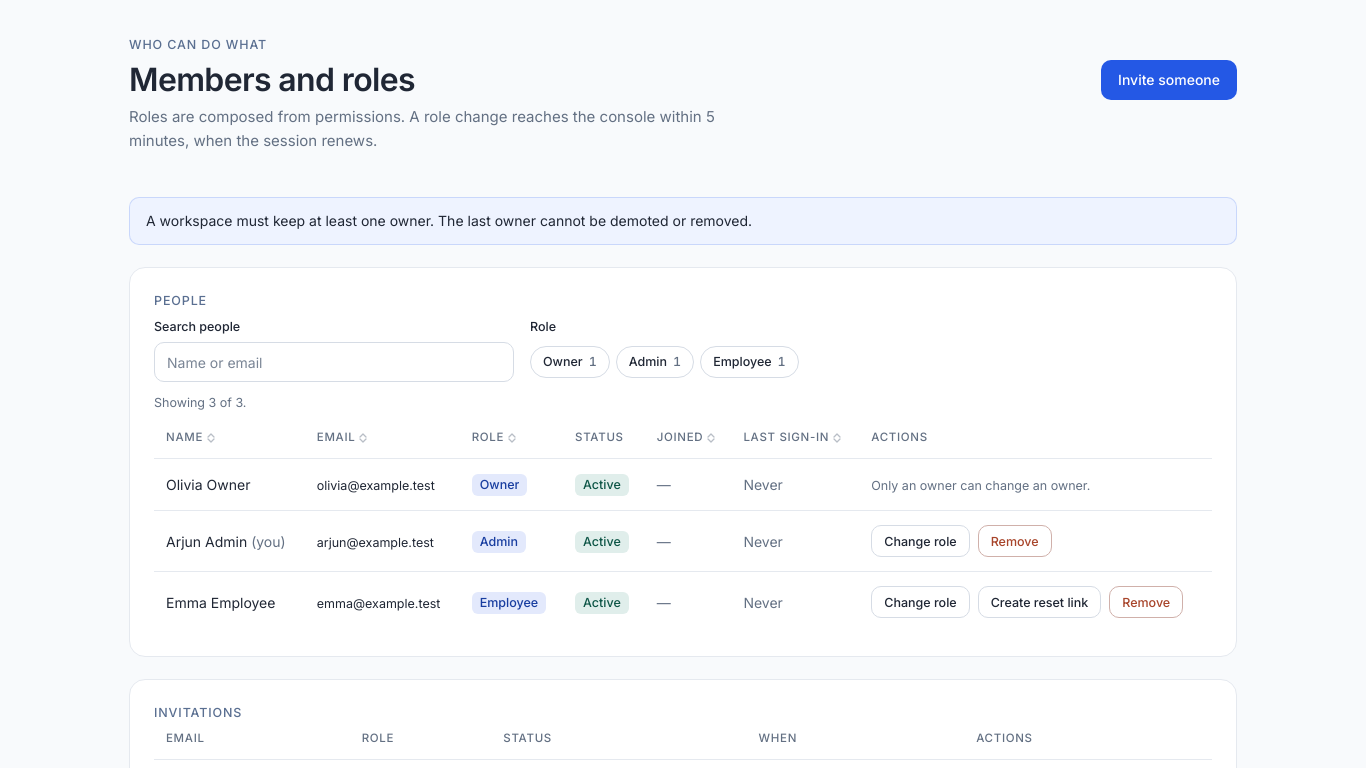
Members as an administrator › creates a password reset link with its 30-minute expiry, but not for the viewer themselves
Expected: the text "Olivia Owner" is shown, [166,476,250,493]
Click the button with aria-label "Create a password reset link for Emma Employee". click: {"x": 1039, "y": 602}
box: [978,586,1101,618]
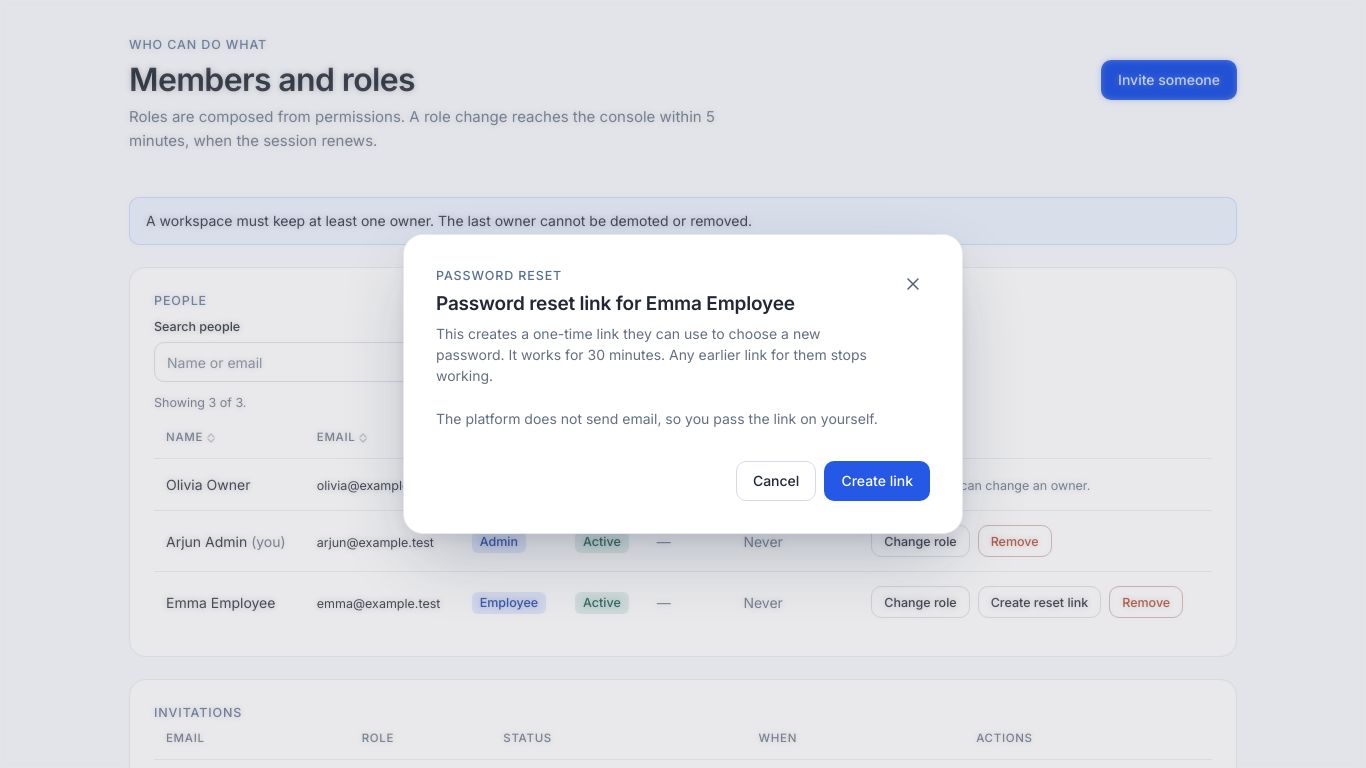
Click the button "Create link". click: {"x": 877, "y": 481}
box: [824,461,930,501]
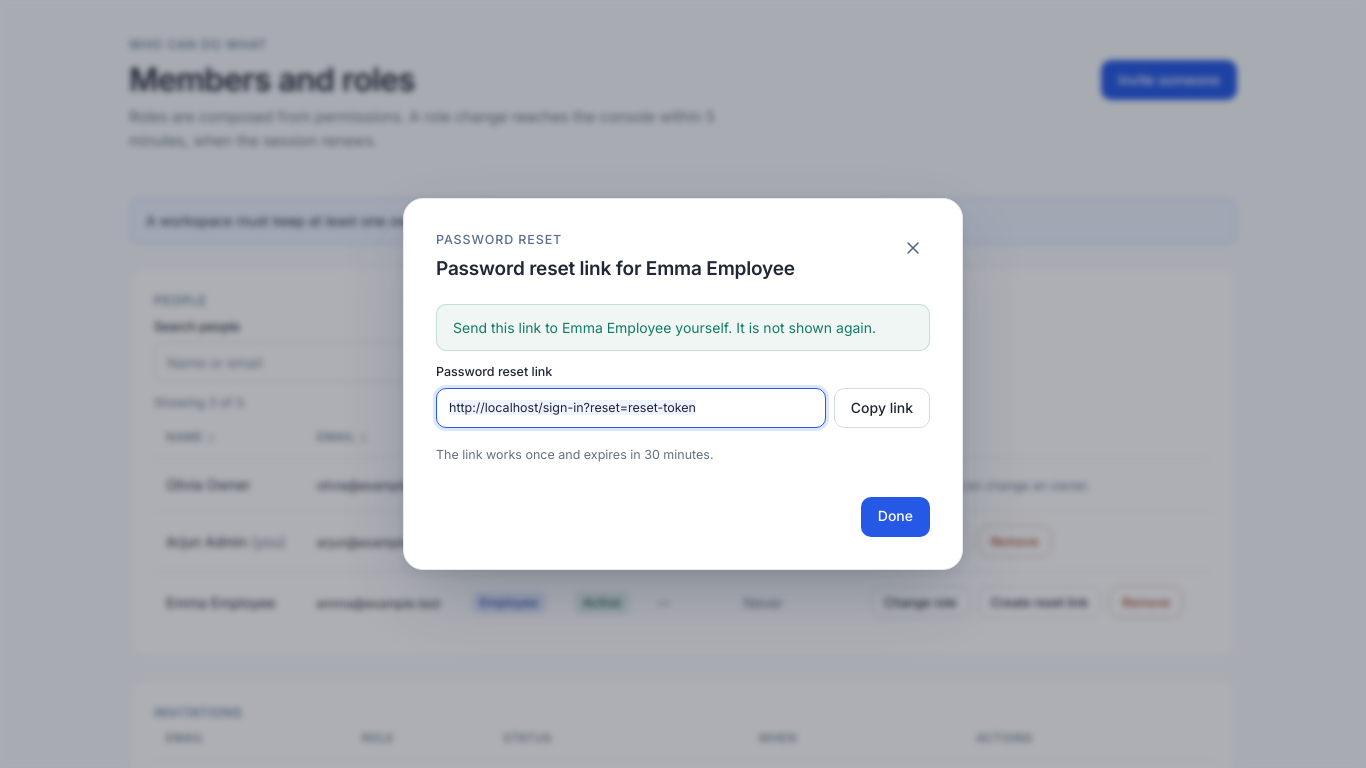
Result: the element showing "The link works once and expires in 30 minutes." is shown at [436,447,714,462]
Result: the button "Copy link" is shown at [834,388,930,428]
